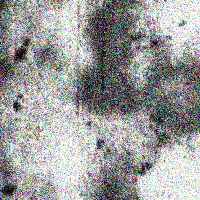inclusion: (10, 35, 35, 64), (147, 109, 168, 136), (136, 156, 154, 179), (0, 179, 19, 199), (10, 91, 25, 113)
patches: (83, 1, 141, 114), (145, 62, 199, 133), (88, 155, 136, 200)
